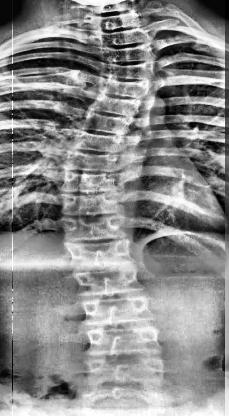Vertebrae: (83, 356, 167, 388), (80, 295, 154, 329), (62, 240, 136, 272), (72, 266, 144, 298), (86, 329, 162, 358), (53, 190, 125, 218), (60, 217, 134, 240), (58, 151, 121, 175), (56, 173, 121, 195), (76, 114, 130, 138), (94, 76, 146, 100), (67, 134, 123, 156), (85, 96, 143, 116), (98, 47, 154, 65), (102, 62, 152, 82), (99, 28, 148, 48)
